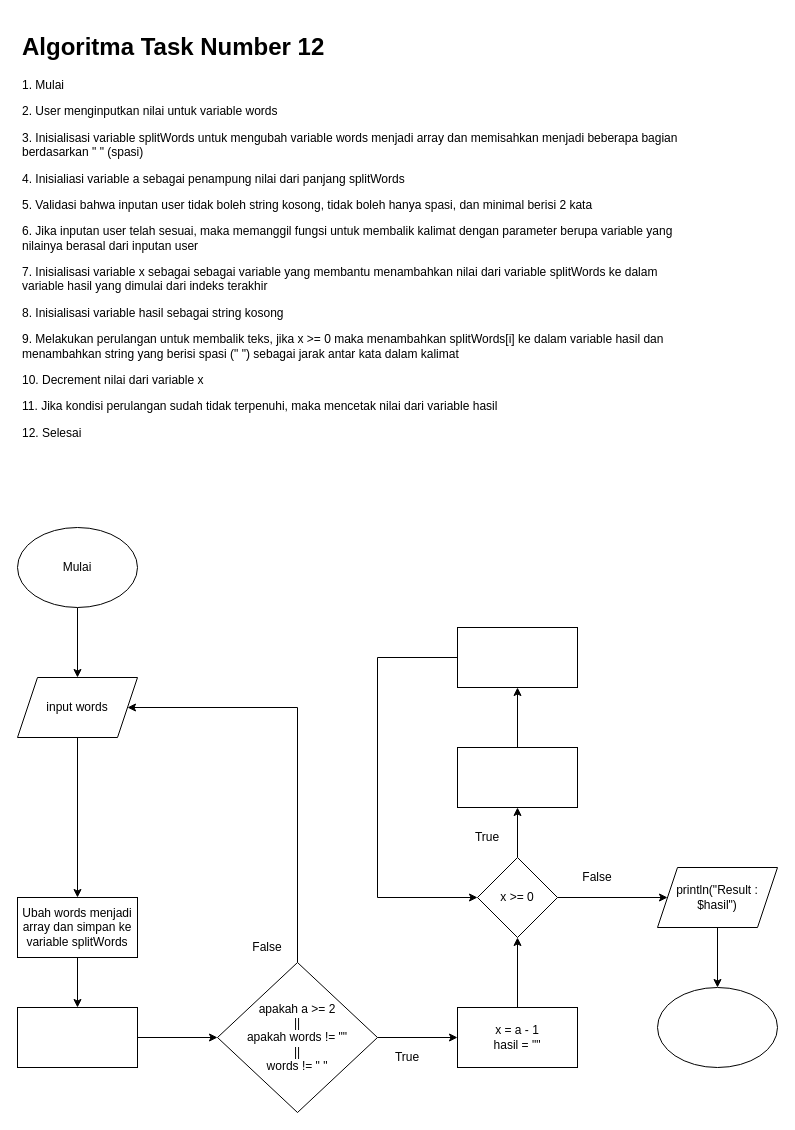
Some shapes in this 795 by 1130 pixel diagram are drawn without their labels. The centre of each missing label's shape, as x and y in pixels:
a = splitWords.size: pixel 77 1037
hasil += words[x] hasil += " ": pixel 517 777
Selesai: pixel 717 1027
x--: pixel 517 657
